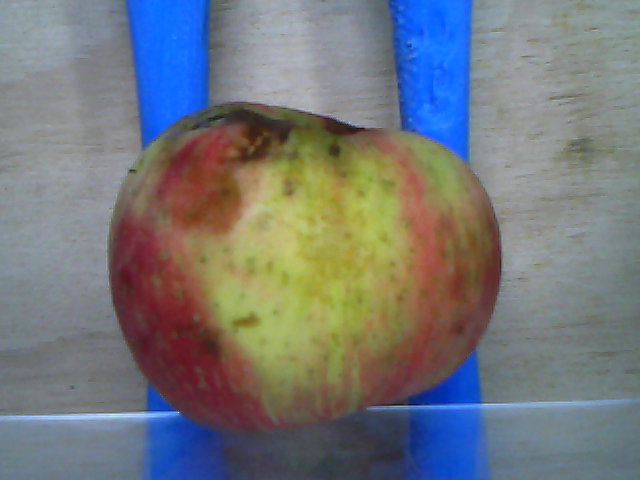bruise: (161, 156, 246, 237)
